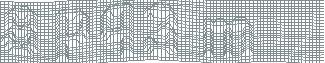3: (141, 1, 180, 57)
8: (3, 4, 41, 60)
P: (53, 8, 91, 63)
m: (201, 15, 254, 58)
q: (99, 2, 136, 59)
